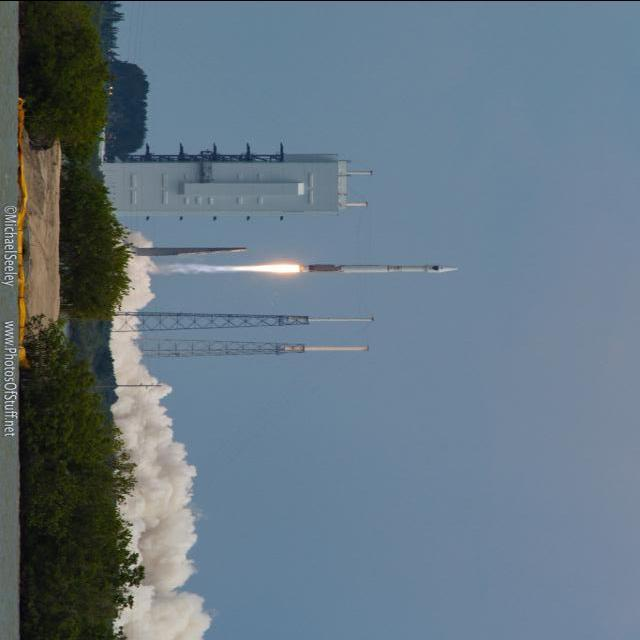missile: (298, 262, 461, 275)
